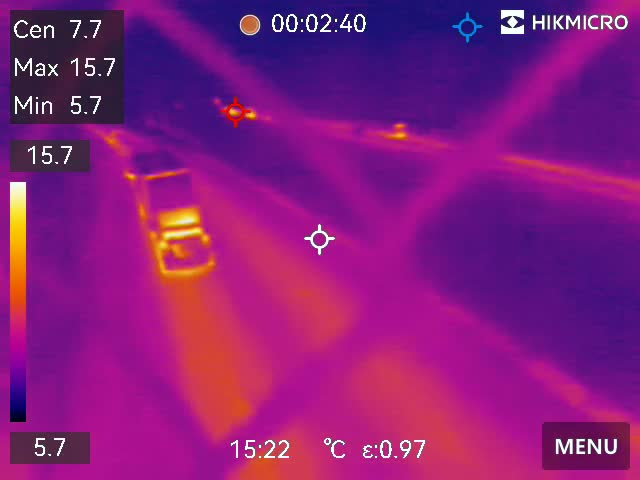heavyTruck: (119, 148, 216, 279)
